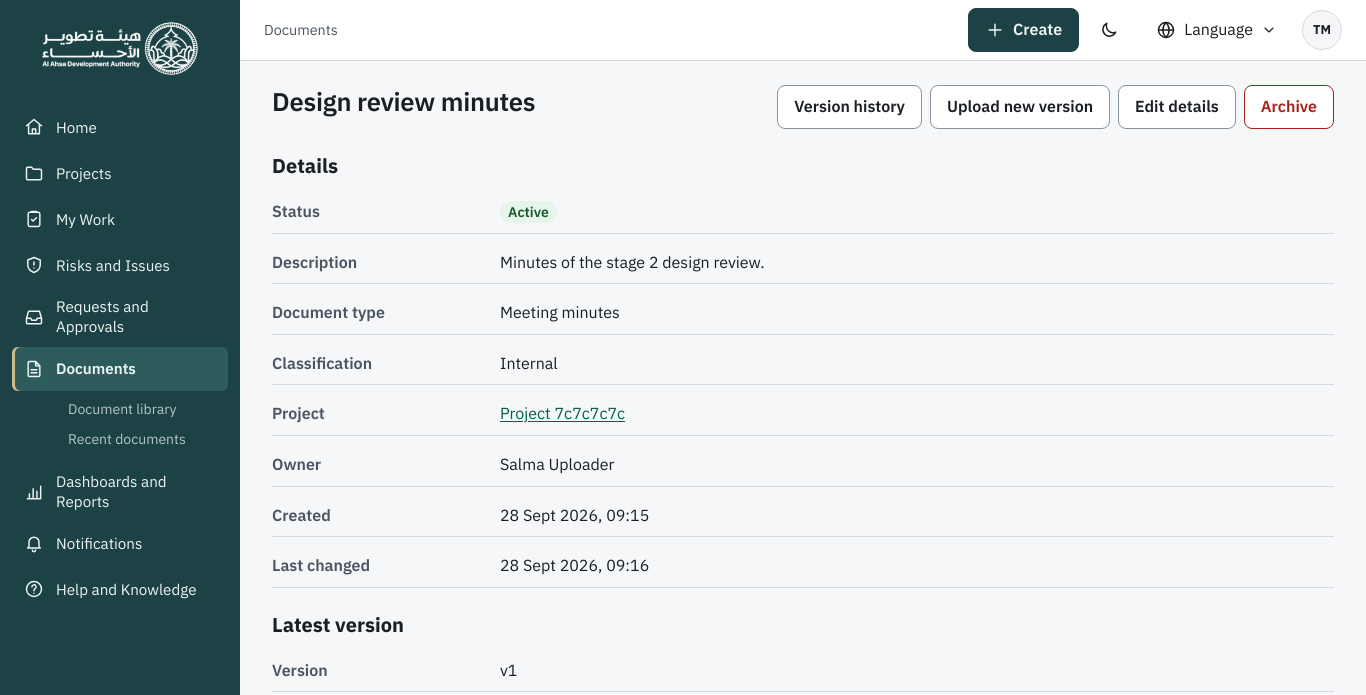
Scenario: MOD-053 Archive › archives with the ETag, and an archived document takes no change
What coordinates should you click on to do the following:
click the button "Archive"
I would click on:
 (1289, 107)
Its box is left=1244, top=85, right=1334, bottom=129.
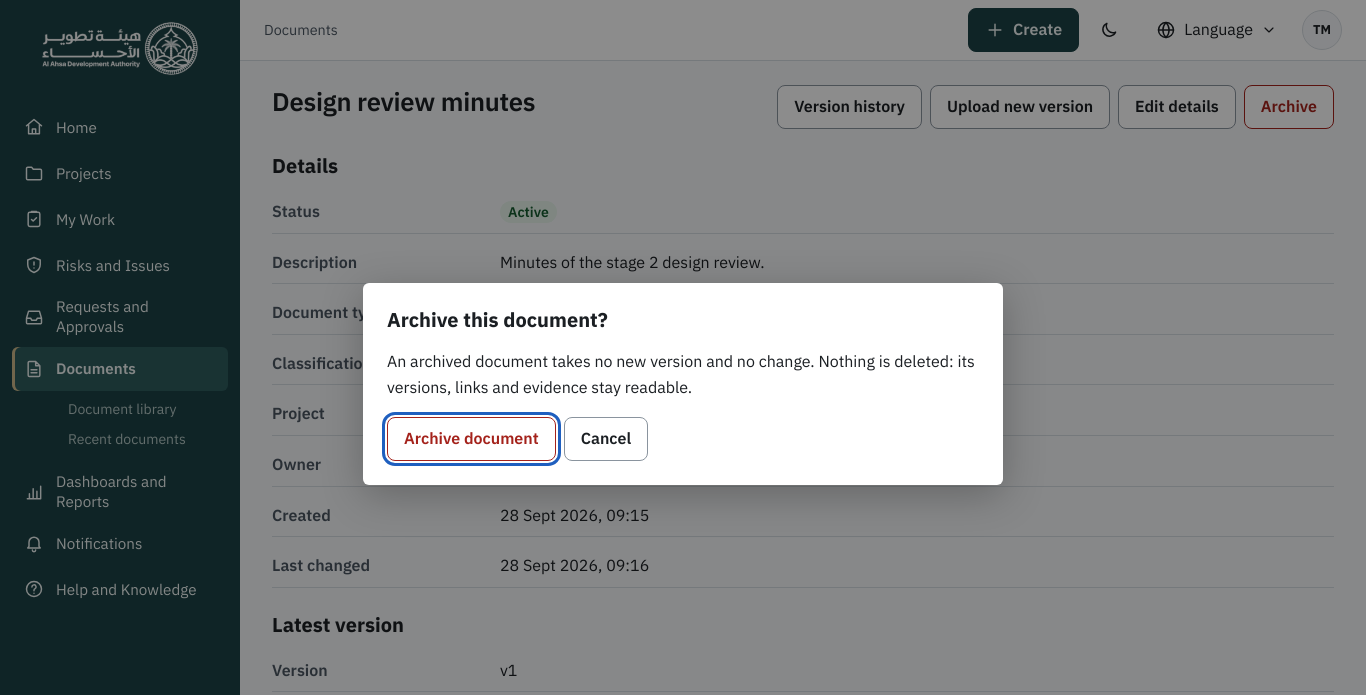
What coordinates should you click on to do the following:
click the button "Archive document"
I would click on:
 (471, 439)
Its box is left=387, top=417, right=556, bottom=461.
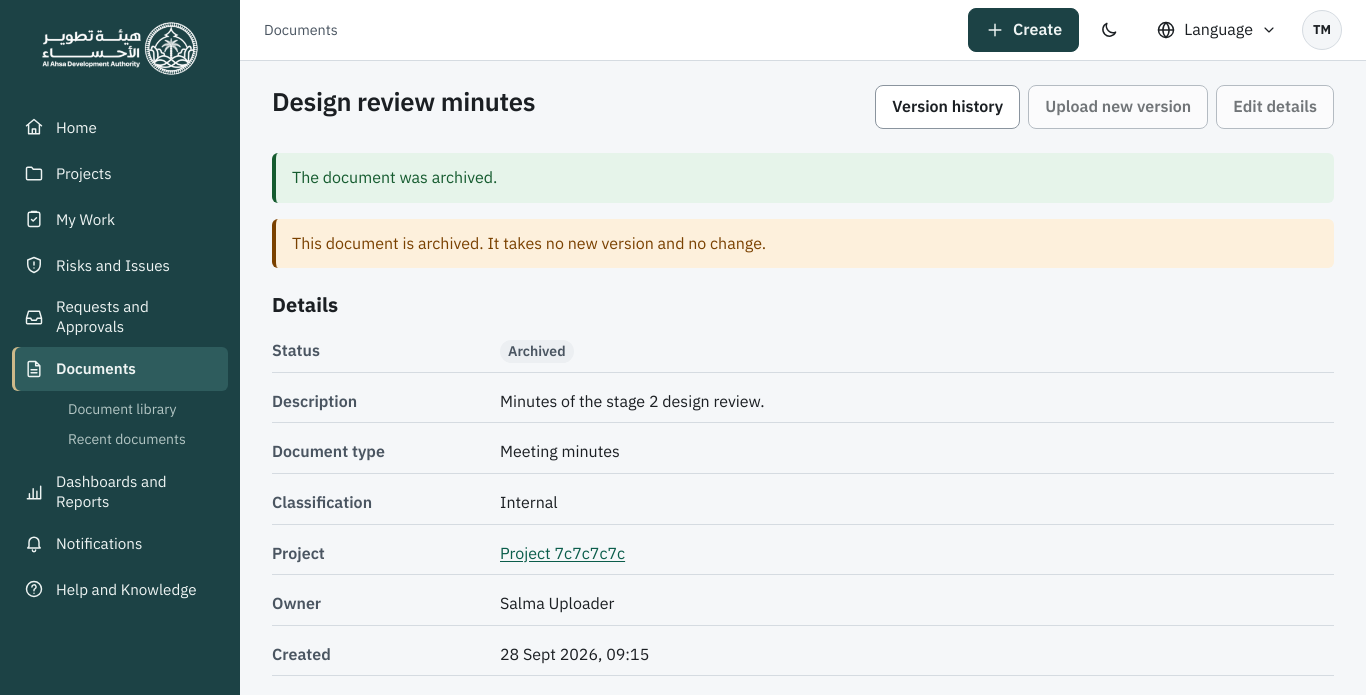
Expected: the text "The document was archived." is shown, left=272, top=153, right=1334, bottom=203
Expected: the text "This document is archived. It takes no new version and no change." is shown, left=272, top=219, right=1334, bottom=268
Expected: the button "Upload new version" is disabled, left=1028, top=85, right=1208, bottom=129
